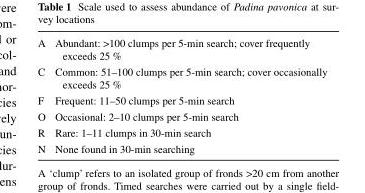table: (37, 36, 326, 154)
table column: (49, 36, 326, 154), (37, 36, 49, 154)
table row: (37, 63, 326, 91), (37, 36, 326, 63), (37, 91, 326, 108), (37, 108, 326, 124), (37, 124, 326, 140), (37, 140, 326, 154)
